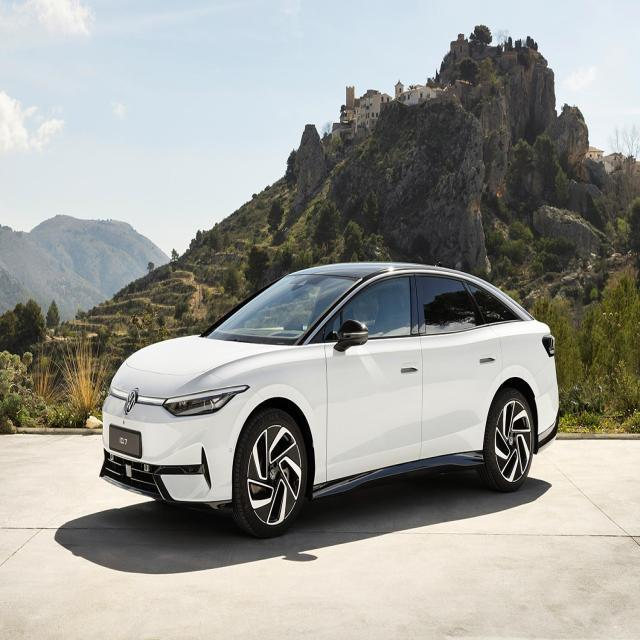pickup: (98, 259, 560, 539)
